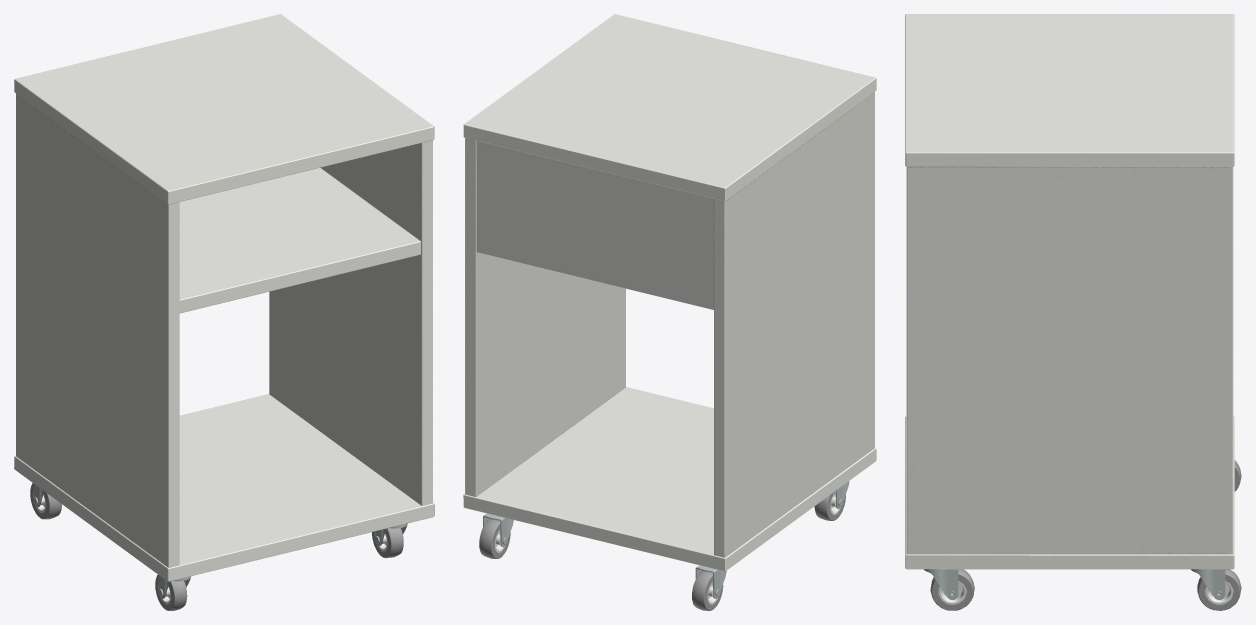
The model's file is VIHALS nightstand.glb.
The picture shows the model from 3 angles, left to right: view 1: azimuth 30°, elevation 25°; view 2: azimuth 150°, elevation 25°; view 3: azimuth 270°, elevation 25°; orthographic projection. The views are drawn at different scales.
Parts seen in each view (by area): view 1: model; view 2: model; view 3: model.
Boxes of the visible parts, bbox=[...] form: model: bbox=[14, 14, 434, 610]; model: bbox=[463, 14, 876, 610]; model: bbox=[905, 14, 1241, 610].
Size of the model in its own units: 0.37 by 0.5822 by 0.3779.
1 material, 1 textured.
